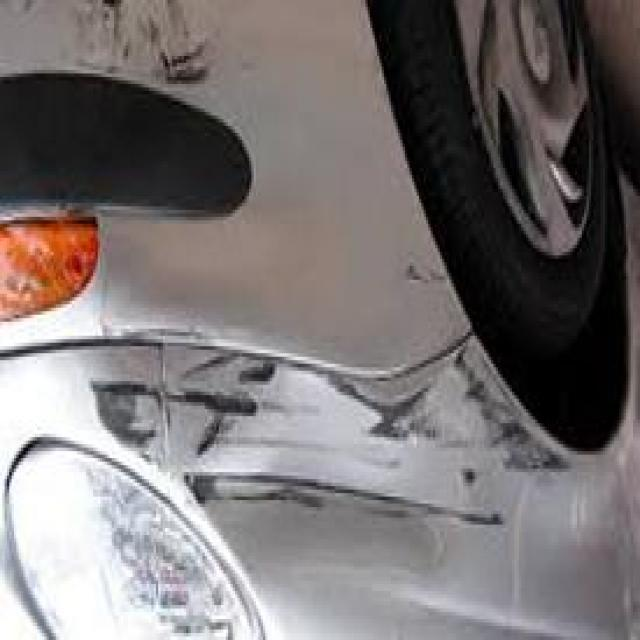scratch: (89, 314, 572, 552)
